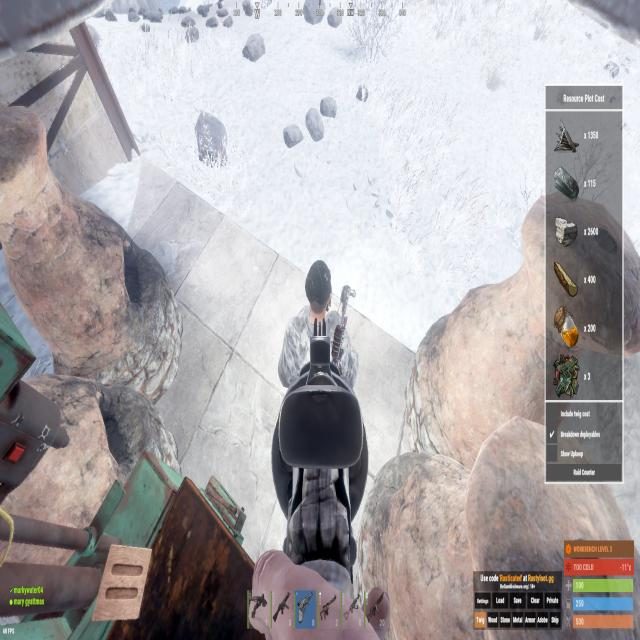Player: (276, 253, 361, 390)
